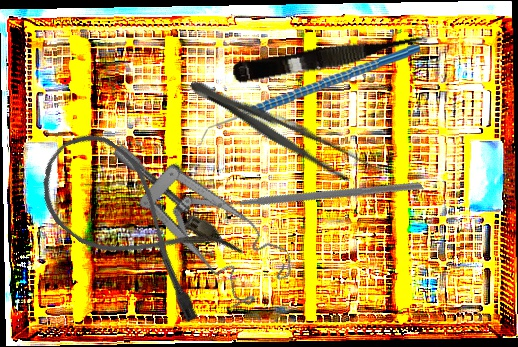Cannula: (20, 117, 249, 329)
Chopper: (204, 83, 424, 295), (192, 45, 424, 146)
Dressing Forceps: (183, 70, 377, 190)
Micro Scissor: (231, 27, 437, 88)
Speculum: (111, 98, 302, 331)
